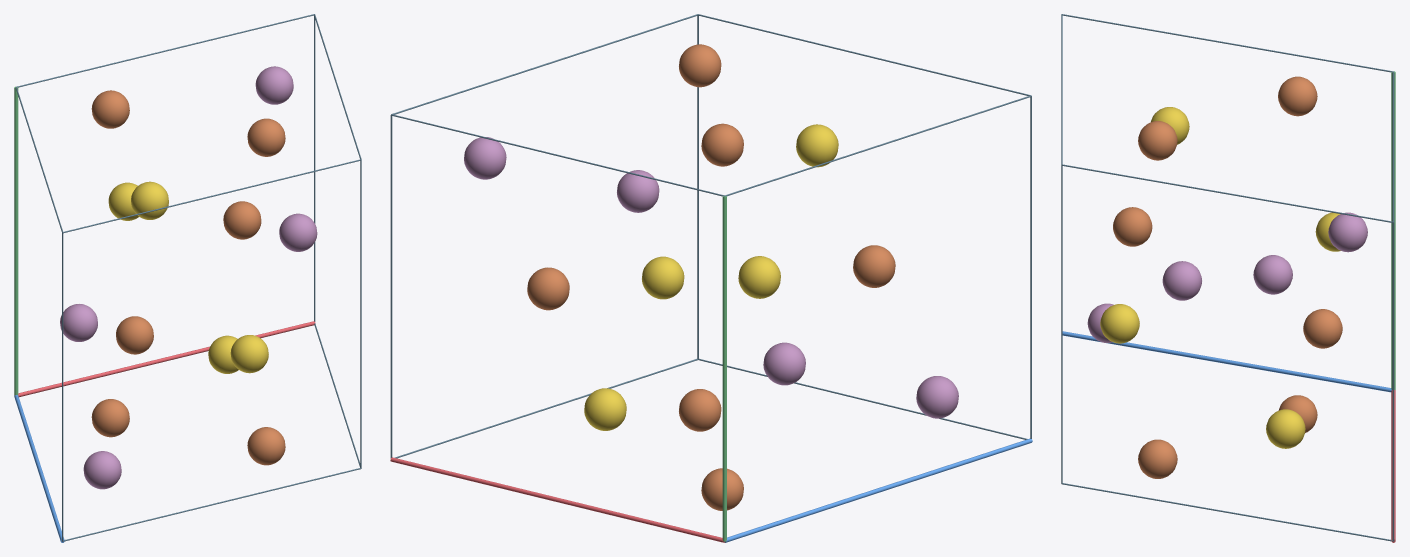
The model's file is arsenopyrite.glb.
The picture shows the model from 3 angles, left to right: view 1: azimuth 30°, elevation 25°; view 2: azimuth 150°, elevation 25°; view 3: azimuth 270°, elevation 25°; orthographic projection. The views are drawn at different scales.
Parts seen in each view (by area): view 1: Ô mạng và các trục a, b, c, Fe1 · Fe · 1 (×4), Fe2 · Fe · 1 (×2), As2 · As · 1 (×2), As1 · As · 1 (×2), S1 · S · 1 (×2), S2 · S · 1 (×2); view 2: Ô mạng và các trục a, b, c, Fe1 · Fe · 1 (×4), S1 · S · 1 (×2), Fe2 · Fe · 1 (×2), S2 · S · 1 (×2), As2 · As · 1 (×2), As1 · As · 1 (×2); view 3: Ô mạng và các trục a, b, c, Fe1 · Fe · 1 (×4), As1 · As · 1 (×2), Fe2 · Fe · 1 (×2), S2 · S · 1 (×2), S1 · S · 1 (×2), As2 · As · 1 (×2).
Part boxes in pixels (bbox=[...]): Ô mạng và các trục a, b, c: bbox=[14, 14, 361, 542]; Fe1 · Fe · 1 (×4): bbox=[91, 90, 285, 465]; Fe2 · Fe · 1 (×2): bbox=[116, 201, 261, 354]; As2 · As · 1 (×2): bbox=[83, 66, 293, 489]; As1 · As · 1 (×2): bbox=[60, 213, 317, 341]; S1 · S · 1 (×2): bbox=[108, 182, 268, 373]; S2 · S · 1 (×2): bbox=[131, 181, 238, 373]; Ô mạng và các trục a, b, c: bbox=[390, 14, 1032, 542]; Fe1 · Fe · 1 (×4): bbox=[679, 44, 743, 510]; S1 · S · 1 (×2): bbox=[642, 256, 780, 299]; Fe2 · Fe · 1 (×2): bbox=[527, 245, 895, 310]; S2 · S · 1 (×2): bbox=[584, 124, 838, 430]; As2 · As · 1 (×2): bbox=[464, 137, 958, 418]; As1 · As · 1 (×2): bbox=[617, 170, 805, 385]; Ô mạng và các trục a, b, c: bbox=[1061, 14, 1395, 542]; Fe1 · Fe · 1 (×4): bbox=[1138, 76, 1317, 478]; As1 · As · 1 (×2): bbox=[1162, 255, 1292, 300]; Fe2 · Fe · 1 (×2): bbox=[1113, 207, 1342, 348]; S2 · S · 1 (×2): bbox=[1151, 107, 1305, 448]; S1 · S · 1 (×2): bbox=[1100, 212, 1340, 343]; As2 · As · 1 (×2): bbox=[1087, 212, 1367, 342].
Bounding box in the file's own units: 7.98 × 6.31 × 5.4.
